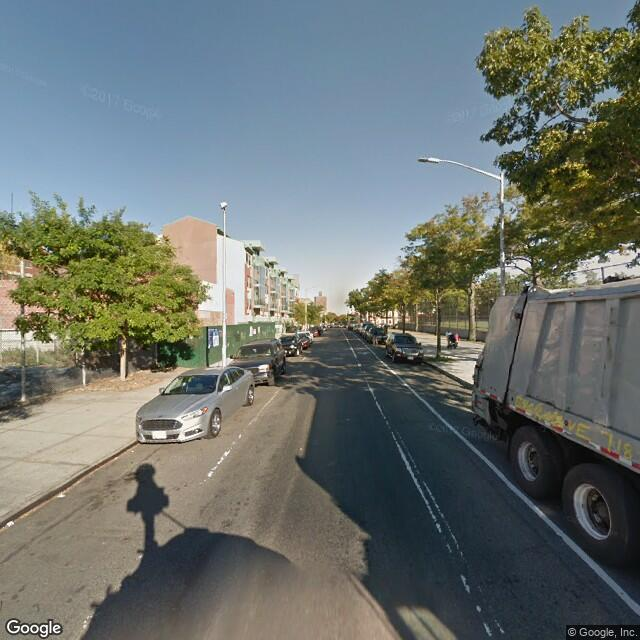litter: (7, 519, 16, 526), (110, 453, 116, 463), (58, 494, 73, 497)
